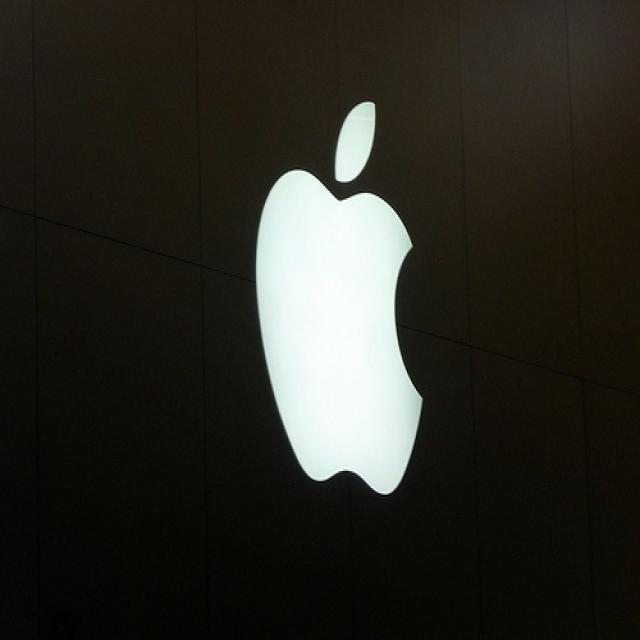apple: (243, 90, 437, 511)
